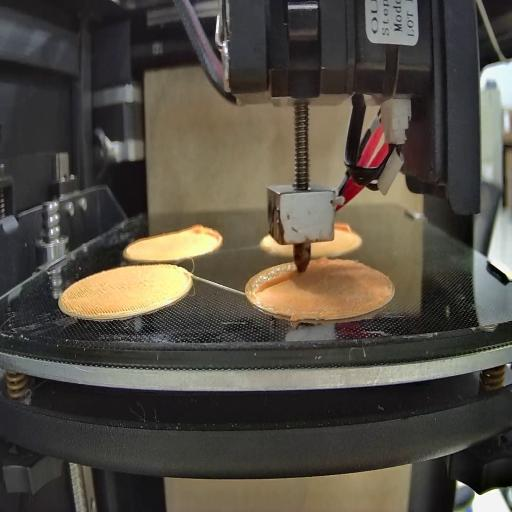over_extrusion: (254, 268, 296, 300), (190, 224, 224, 254), (334, 220, 351, 235), (310, 255, 328, 269)
